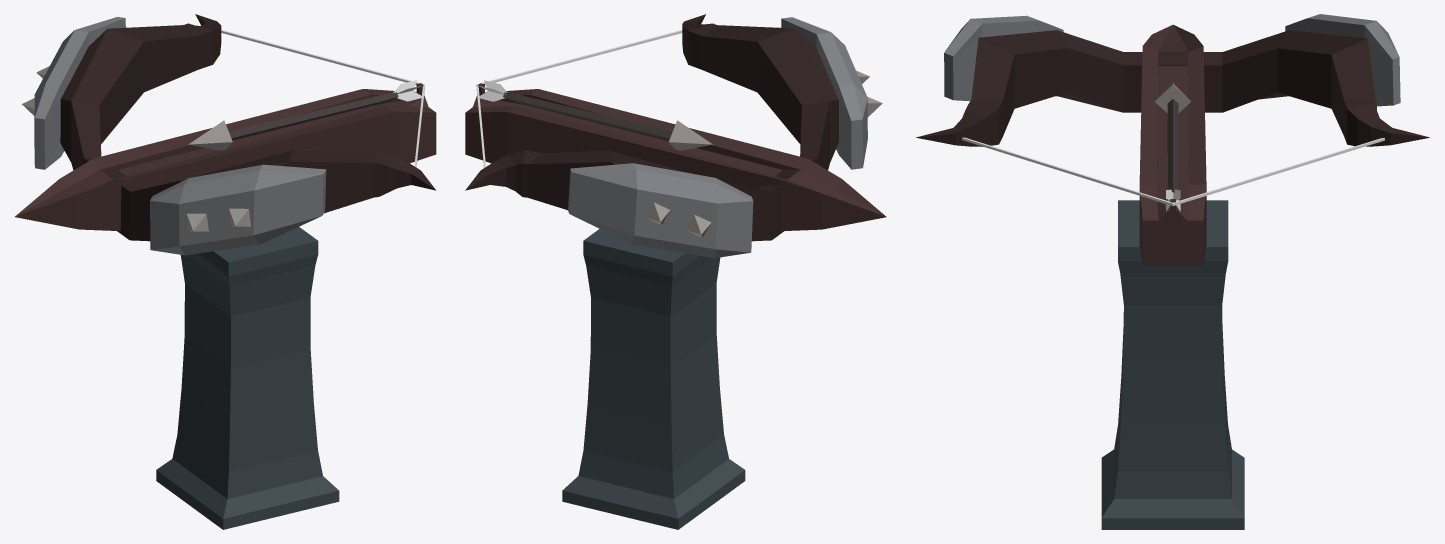
The model's file is HEAVY_TURET_LV_2.fbx.
The picture shows the model from 3 angles, left to right: view 1: azimuth 30°, elevation 25°; view 2: azimuth 150°, elevation 25°; view 3: azimuth 270°, elevation 25°; orthographic projection. The views are drawn at different scales.
Parts seen in each view (by area): view 1: Cube, Cube_2, Cube_1, Cube_4, Cube_3, Cube_5; view 2: Cube, Cube_2, Cube_1, Cube_4, Cube_3, Cube_5; view 3: Cube_2, Cube, Cube_1, Cube_3, Cube_4.
Boxes of the visible parts, box(x1,y1,x2,y2) form: Cube: box(156, 227, 339, 529); Cube_2: box(34, 14, 435, 255); Cube_1: box(15, 83, 436, 231); Cube_4: box(229, 92, 398, 140); Cube_3: box(221, 29, 424, 167); Cube_5: box(188, 120, 232, 150); Cube: box(562, 229, 745, 529); Cube_2: box(465, 14, 867, 258); Cube_1: box(465, 83, 886, 231); Cube_4: box(503, 92, 672, 139); Cube_3: box(476, 30, 682, 167); Cube_5: box(669, 120, 712, 150); Cube_2: box(916, 14, 1429, 146); Cube: box(1101, 200, 1244, 529); Cube_1: box(1139, 24, 1206, 265); Cube_3: box(962, 137, 1384, 205); Cube_4: box(1167, 99, 1178, 192).
Size of the model in its own units: 466 by 445 by 474.
